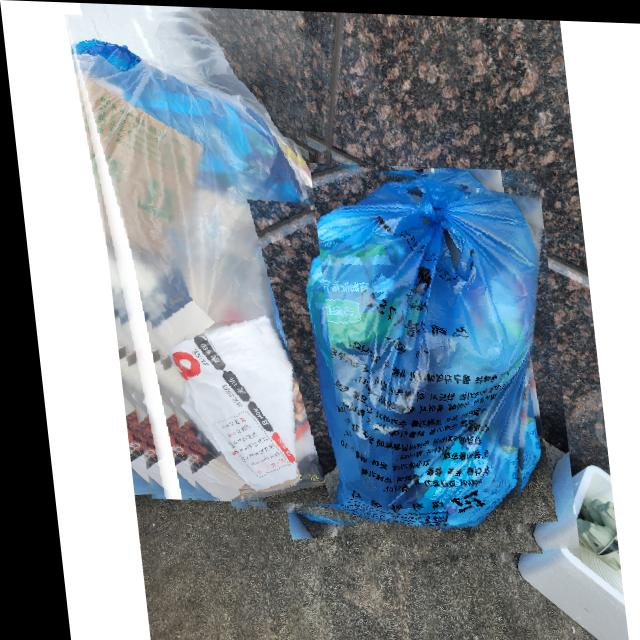general_trashbag: (233, 160, 539, 555)
other_trashbag: (65, 14, 336, 503)
